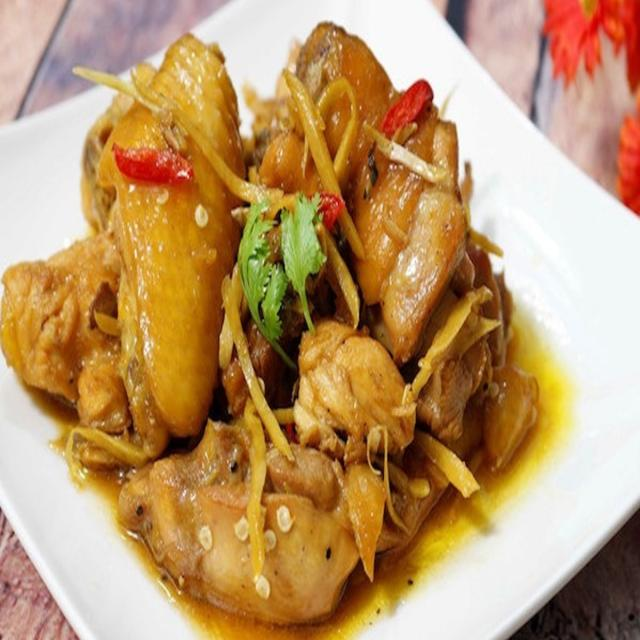ga kho: (0, 22, 539, 623)
rau ngo: (236, 194, 326, 366)
